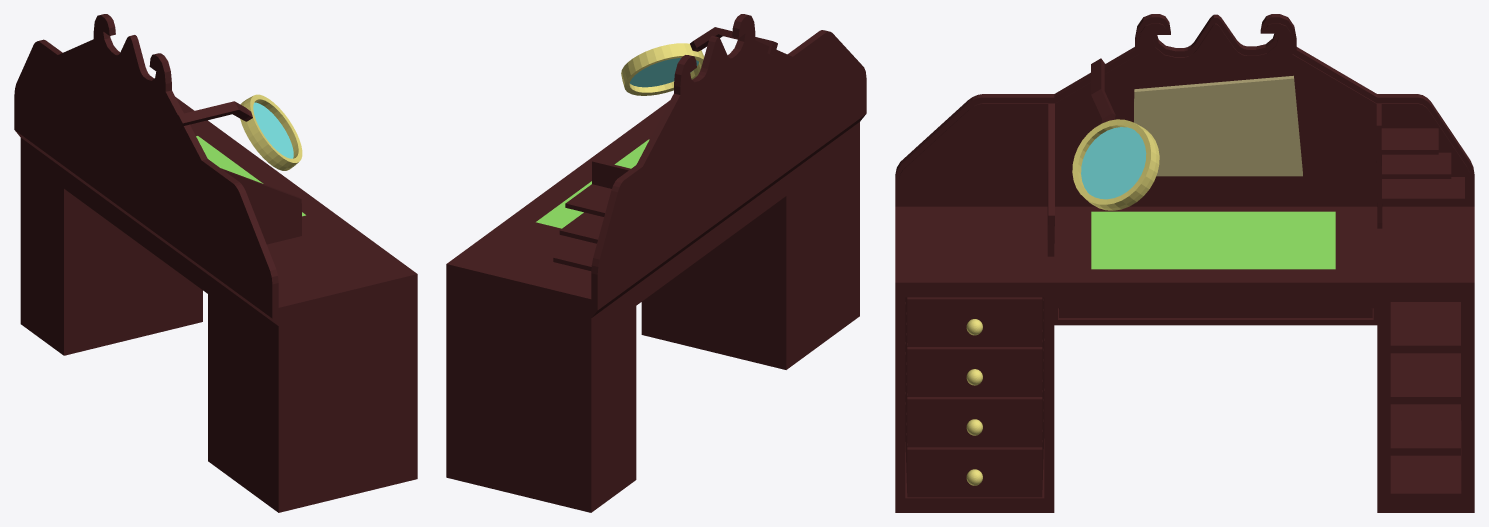
File: Desk.fbx
3 renders of one model, left to right at view 1: azimuth 30°, elevation 25°; view 2: azimuth 150°, elevation 25°; view 3: azimuth 270°, elevation 25°, orthographic. The views are drawn at different scales.
Visible parts, largest first — view 1: Desk; view 2: Desk; view 3: Desk, Shelves, Drawer 3, Drawer 4, Drawer 2, Drawer 1, MapTable.
Part boxes in pixels (x1,y1,x2,y2): Desk: (14,14,417,512); Desk: (446,14,866,512); Desk: (895,14,1474,512); Shelves: (1390,302,1460,455); Drawer 3: (905,339,1044,447); Drawer 4: (905,389,1044,497); Drawer 2: (905,297,1044,396); Drawer 1: (905,297,1043,346); MapTable: (1059,308,1372,317).
Bounding box in the file's own units: 454 × 1003 × 1256.
